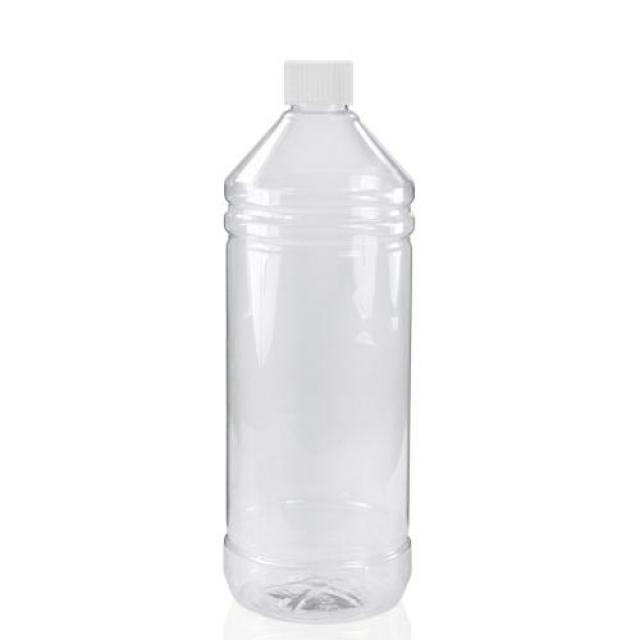plastic_bottle: (224, 61, 411, 614)
